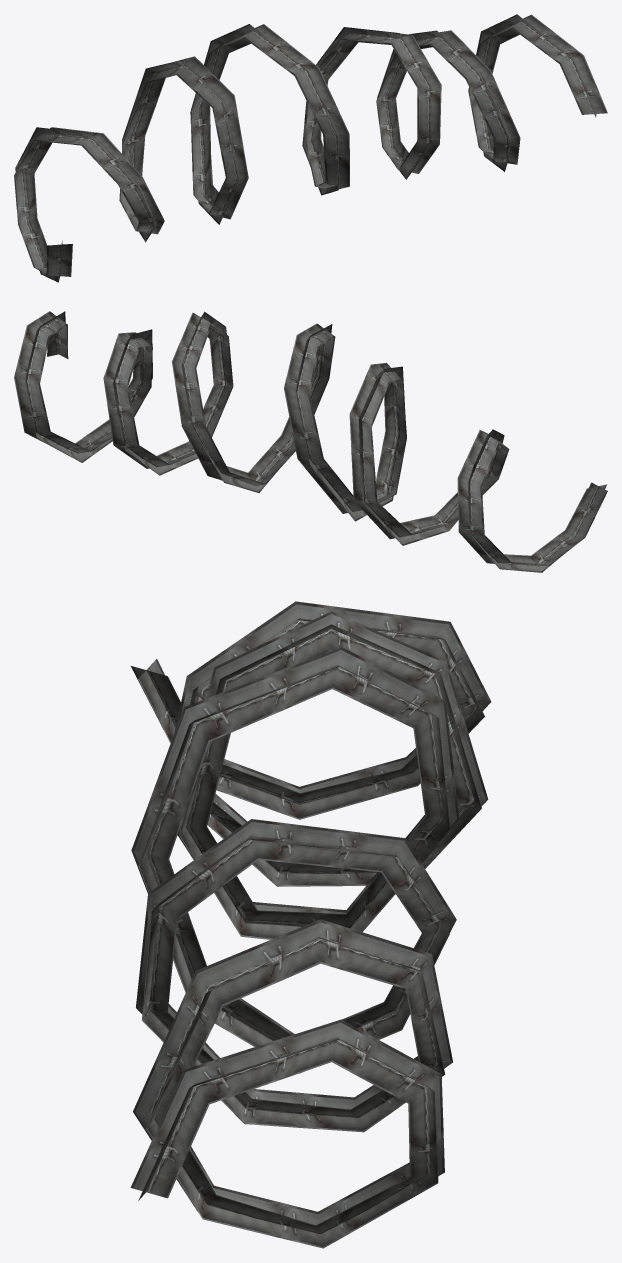
Rendered from Barbed_wire1_LOD1.fbx.
The picture shows the model from 3 angles, top to bottom: view 1: azimuth 30°, elevation 25°; view 2: azimuth 150°, elevation 25°; view 3: azimuth 270°, elevation 25°; orthographic projection. The views are drawn at different scales.
Parts seen in each view (by area): view 1: polySurface330; view 2: polySurface330; view 3: polySurface330.
Part boxes in pixels (<box>): polySurface330: <box>14,14,607,282</box>; polySurface330: <box>14,311,607,572</box>; polySurface330: <box>130,601,491,1248</box>.
Size of the model in its own units: 5.19 by 1.69 by 1.46.
